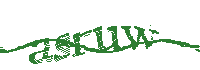a: (29, 36, 53, 65)
r: (72, 27, 93, 57)
s: (53, 30, 71, 63)
u: (94, 26, 123, 56)
w: (121, 23, 160, 52)
